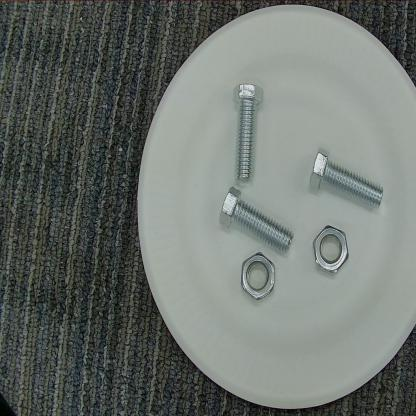FOD: (217, 183, 297, 259), (306, 142, 386, 215), (228, 81, 266, 188), (237, 249, 278, 305), (312, 220, 350, 280)
